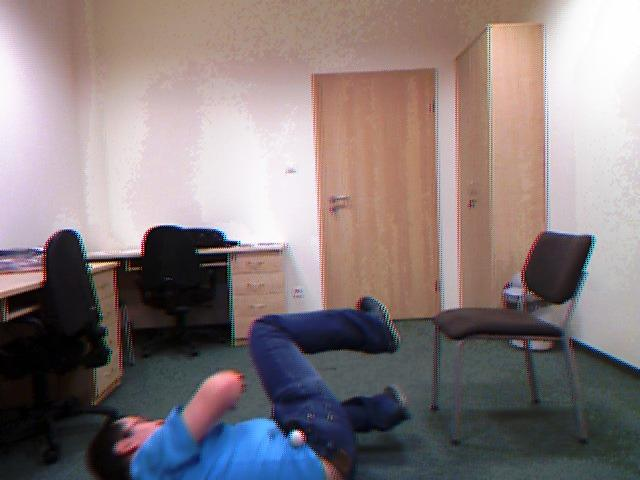fall: (89, 299, 406, 479)
